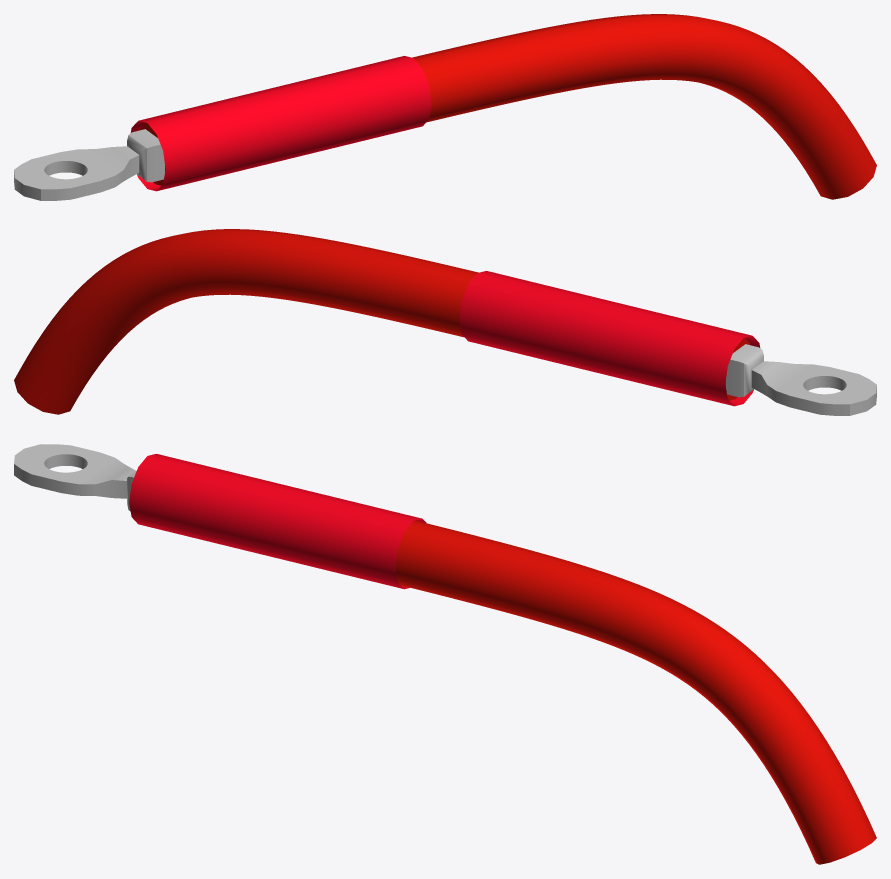
Rendered from LVDS Scun Merah.fbx.
3 renders of one model, top to bottom at view 1: azimuth 30°, elevation 25°; view 2: azimuth 150°, elevation 25°; view 3: azimuth 330°, elevation 25°, orthographic.
Visible parts, largest first — view 1: NurbsPath.002, NurbsPath.003, Cube; view 2: NurbsPath.002, NurbsPath.003, Cube; view 3: NurbsPath.002, NurbsPath.003, Cube.
Part boxes in pixels (x1=…): NurbsPath.002: x1=140, y1=14, x2=876, y2=199; NurbsPath.003: x1=130, y1=56, x2=431, y2=191; Cube: x1=14, y1=129, x2=164, y2=200; NurbsPath.002: x1=14, y1=229, x2=750, y2=414; NurbsPath.003: x1=459, y1=271, x2=760, y2=406; Cube: x1=726, y1=344, x2=876, y2=415; NurbsPath.002: x1=395, y1=520, x2=876, y2=864; NurbsPath.003: x1=129, y1=454, x2=426, y2=589; Cube: x1=14, y1=444, x2=136, y2=511.
Size of the model in its own units: 12.33 by 3.28 by 0.9904.
